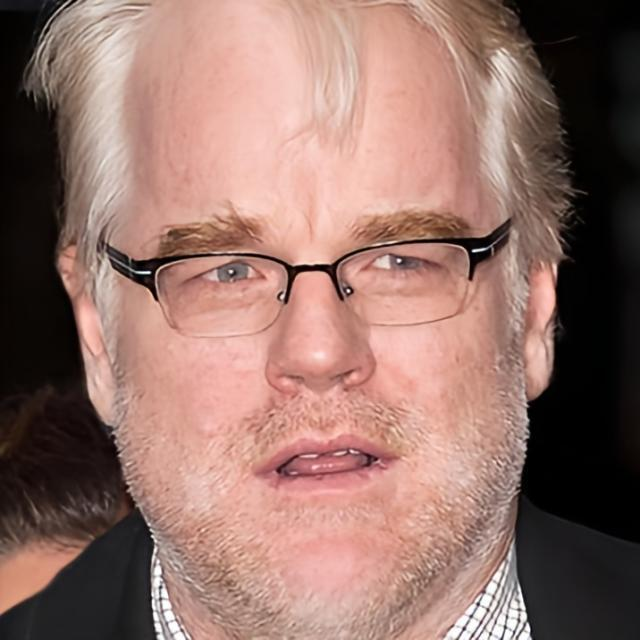disgust: (110, 0, 527, 640)
